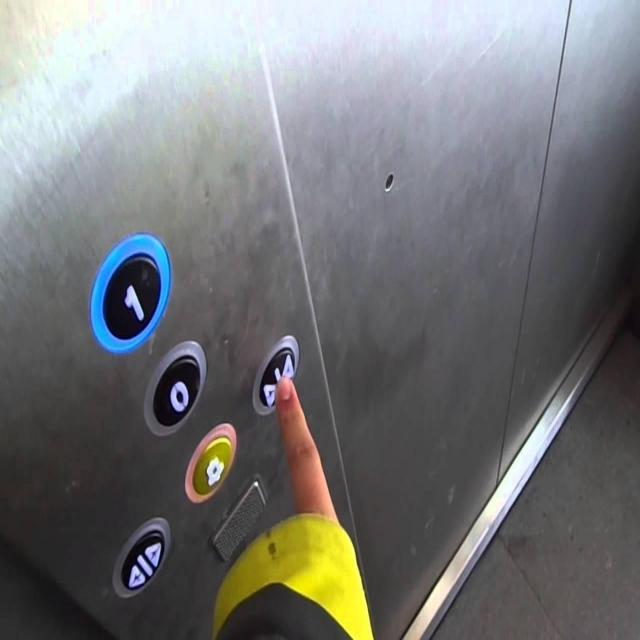0: (141, 337, 208, 442)
1: (87, 228, 173, 358)
alarm: (182, 419, 238, 506)
close: (250, 332, 302, 419)
open: (110, 513, 172, 603)
